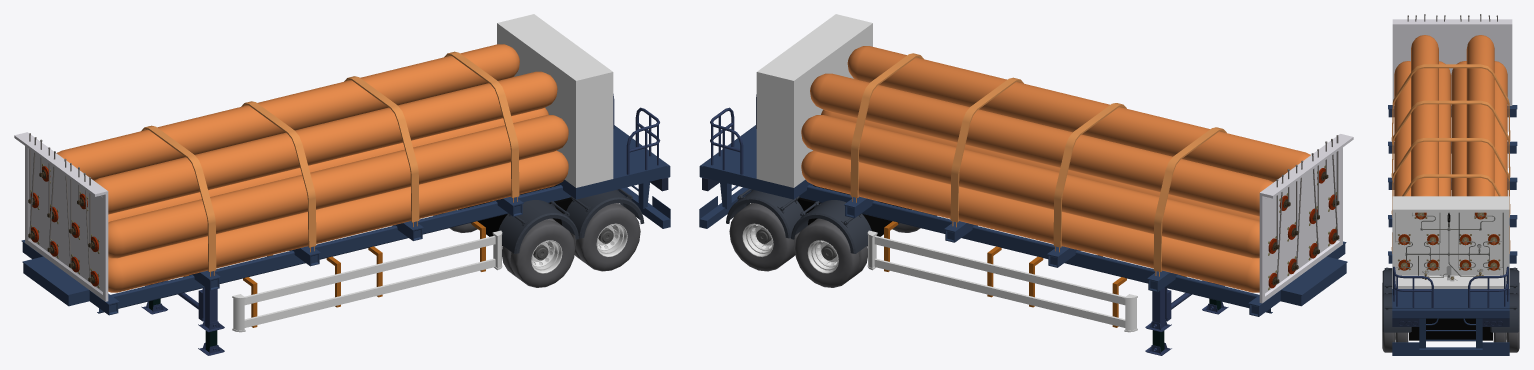
File: Tube_Trailer.fbx
The picture shows the model from 3 angles, left to right: view 1: azimuth 30°, elevation 25°; view 2: azimuth 150°, elevation 25°; view 3: azimuth 270°, elevation 25°; orthographic projection. The views are drawn at different scales.
Visible parts, largest first — view 1: Tube_Trailer; view 2: Tube_Trailer; view 3: Tube_Trailer.
Part boxes in pixels (x1=…): Tube_Trailer: x1=14, y1=14, x2=670, y2=355; Tube_Trailer: x1=699, y1=14, x2=1353, y2=355; Tube_Trailer: x1=1382, y1=14, x2=1519, y2=355.
Bounding box in the file's own units: 0.1521 × 0.0515 × 0.0416.
